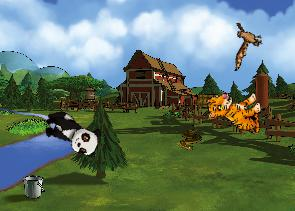eagle: (222, 17, 268, 71)
panda: (38, 106, 105, 160)
tiger: (205, 87, 265, 139)
